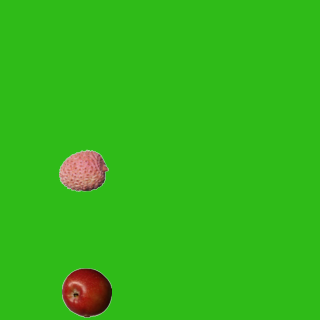Apple Braeburn: (61, 267, 111, 317)
Lychee: (58, 145, 108, 195)
